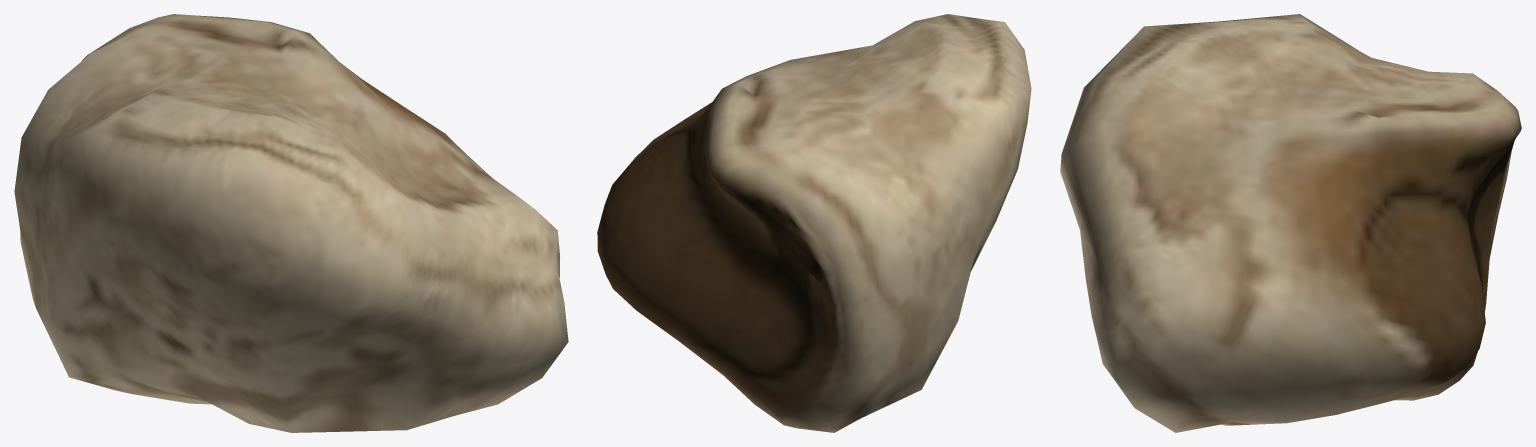
File: Patella.glb
The picture shows the model from 3 angles, left to right: view 1: azimuth 30°, elevation 25°; view 2: azimuth 150°, elevation 25°; view 3: azimuth 270°, elevation 25°; orthographic projection. The views are drawn at different scales.
Parts seen in each view (by area): view 1: R_Bck_Patella; view 2: R_Bck_Patella; view 3: R_Bck_Patella.
Part boxes in pixels (x1,y1,x2,y2): R_Bck_Patella: (14, 14, 568, 432); R_Bck_Patella: (597, 14, 1031, 432); R_Bck_Patella: (1060, 14, 1521, 432).
Size of the model in its own units: 0.06 by 0.0519 by 0.0649.
1 material, 1 textured.
